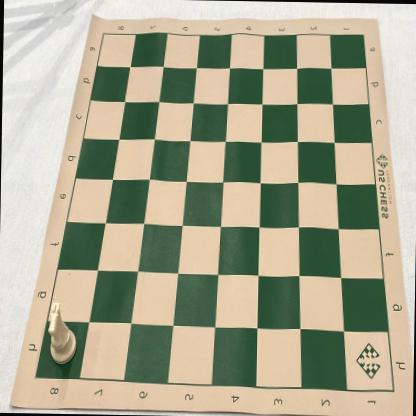white-knight: (46, 302, 78, 366)
